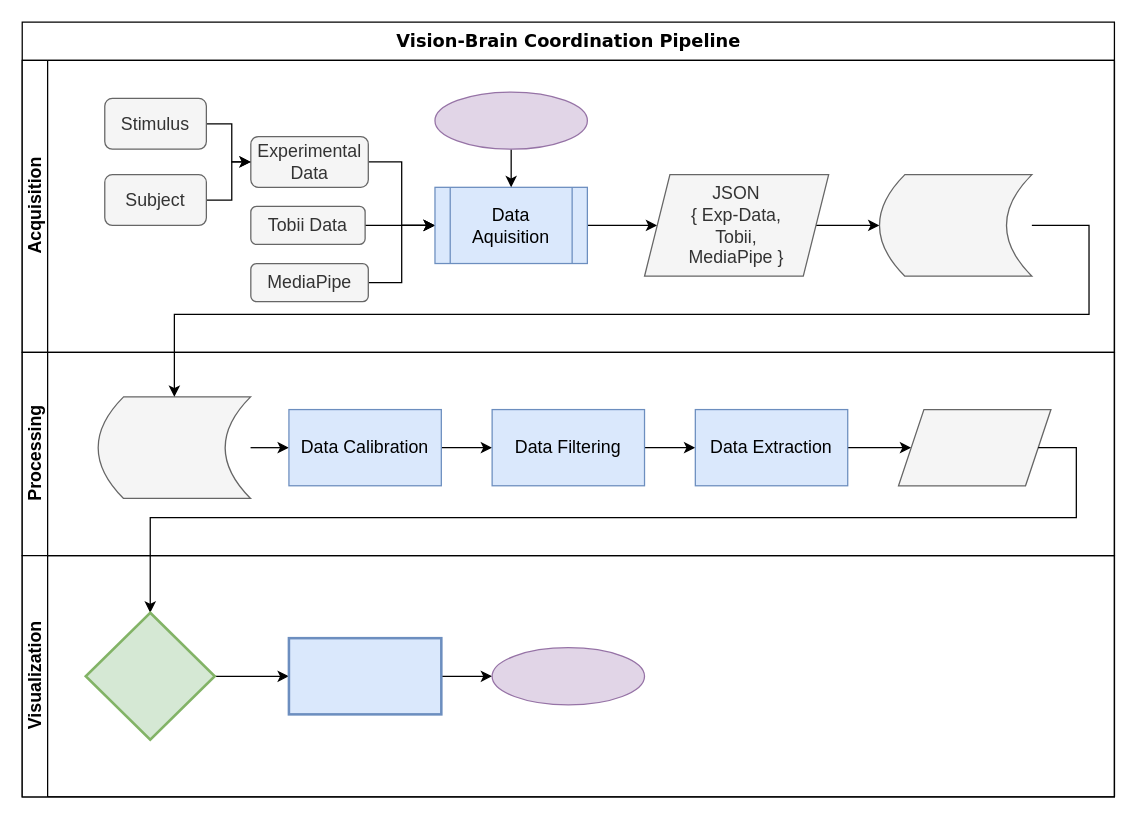
The diagram is 1137 pixels wide and 819 high, and some of its shapes have lost their labels. The box of each missing label's shape, as (x1, y1, x2, y2) in pixels:
Database Retrieval: (97, 396, 251, 498)
Database Storage: (878, 173, 1032, 276)
Draw Visualizations: (287, 636, 442, 715)
End: (491, 646, 645, 705)
JSON { Exp-Data, GazeData }: (897, 408, 1051, 486)
Start: (434, 91, 587, 149)
Type of Stimulus?: (84, 611, 215, 740)
